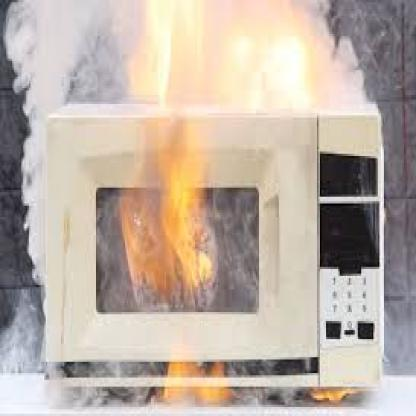fire: (121, 10, 220, 301)
smoke: (0, 0, 416, 416)
